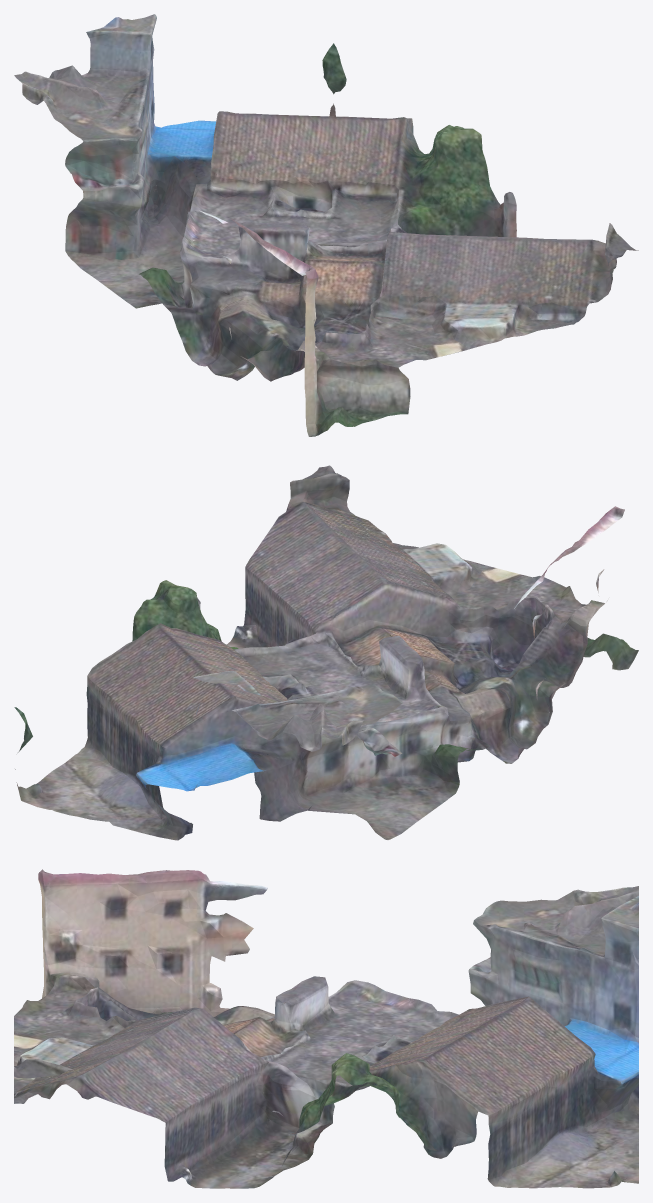
Rendered from Tile__006__006_L21_0000200.glb.
3 views of the same model, one above another, from view 1: azimuth 30°, elevation 25°; view 2: azimuth 150°, elevation 25°; view 3: azimuth 270°, elevation 25° (orthographic). The views are drawn at different scales.
Visible parts, largest first — view 1: root; view 2: root; view 3: root.
Boxes of the visible parts, bbox=[...] form: root: bbox=[14, 14, 638, 436]; root: bbox=[14, 465, 638, 840]; root: bbox=[14, 869, 638, 1188].
Bounding box in the file's own units: 15.5 × 8.72 × 25.63.
1 material, 1 textured.
